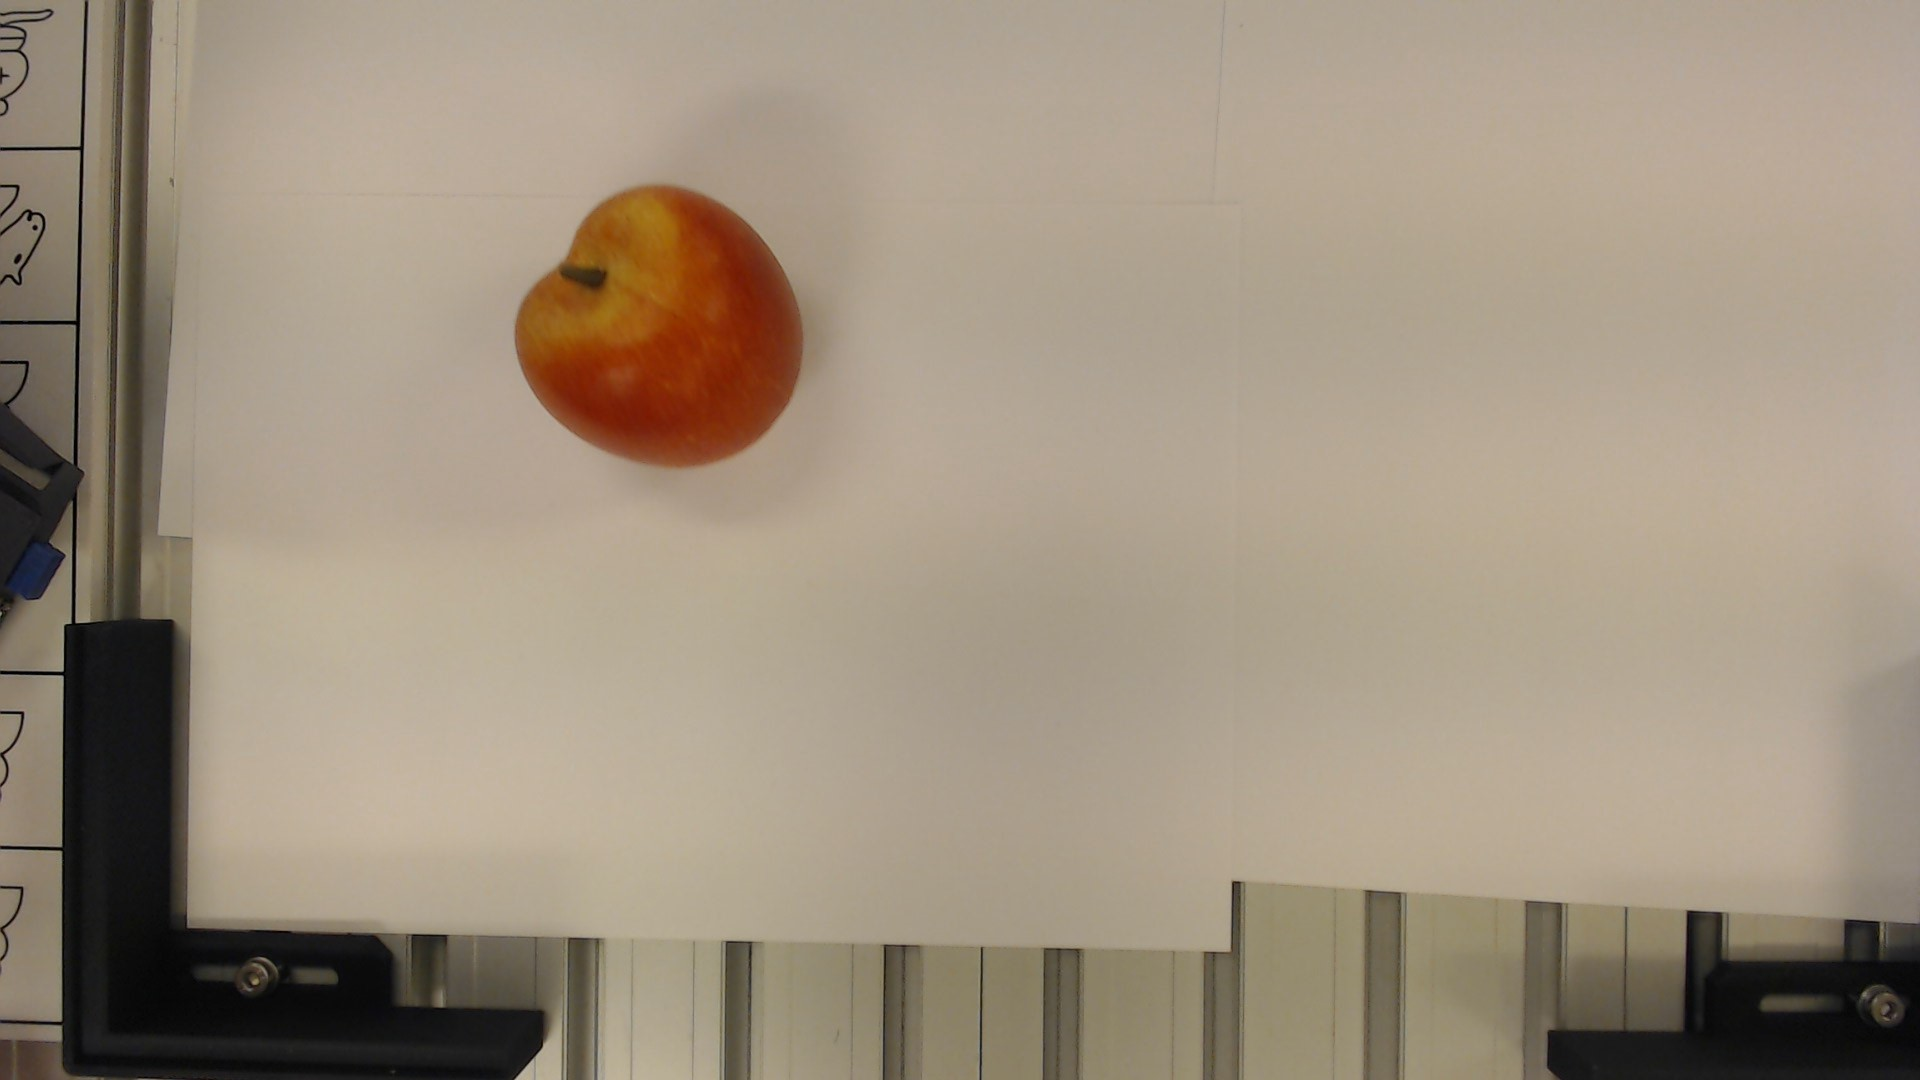Peach: (504, 183, 820, 471)
